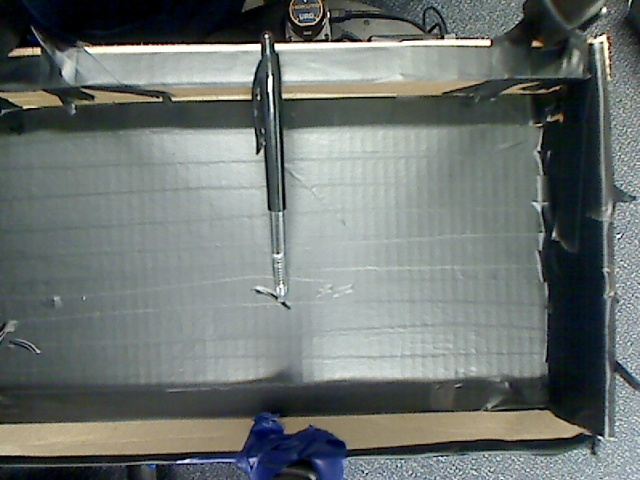pen: (243, 22, 303, 306)
